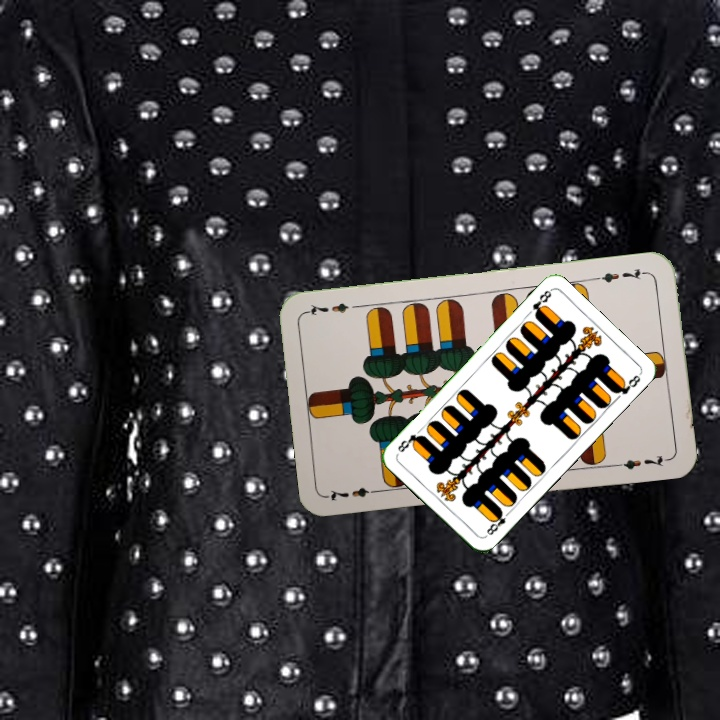E7: (591, 264, 650, 286), (324, 483, 383, 504)
E8: (481, 506, 513, 539), (528, 286, 554, 320)
